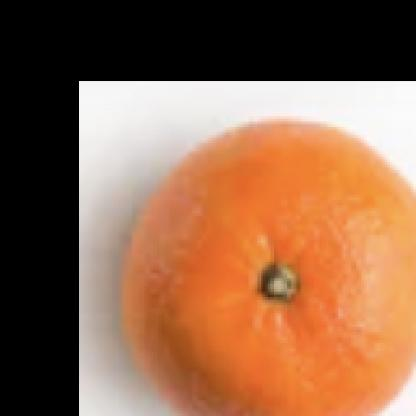rotten: (118, 117, 416, 416)
